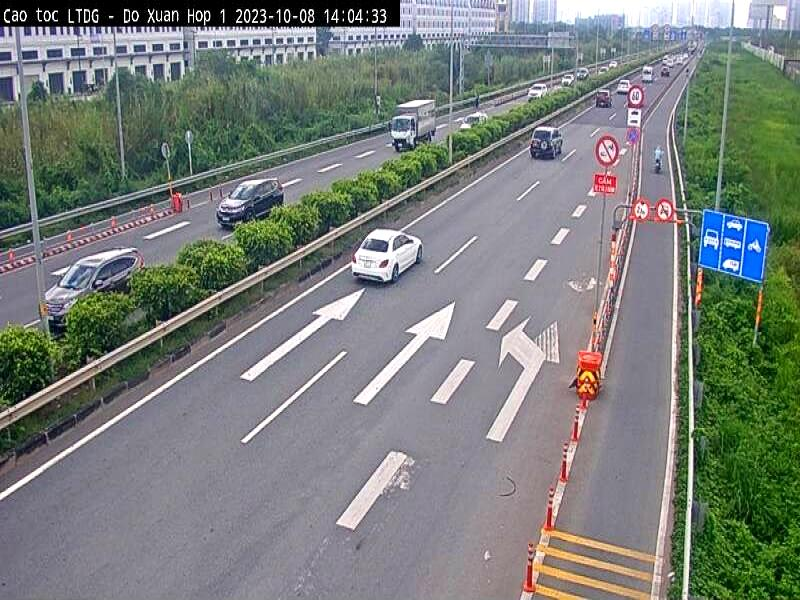car: (48, 224, 142, 306), (350, 210, 426, 306), (206, 158, 288, 228), (530, 115, 564, 166), (596, 80, 614, 117), (521, 72, 543, 102)
truck: (382, 80, 443, 146)
